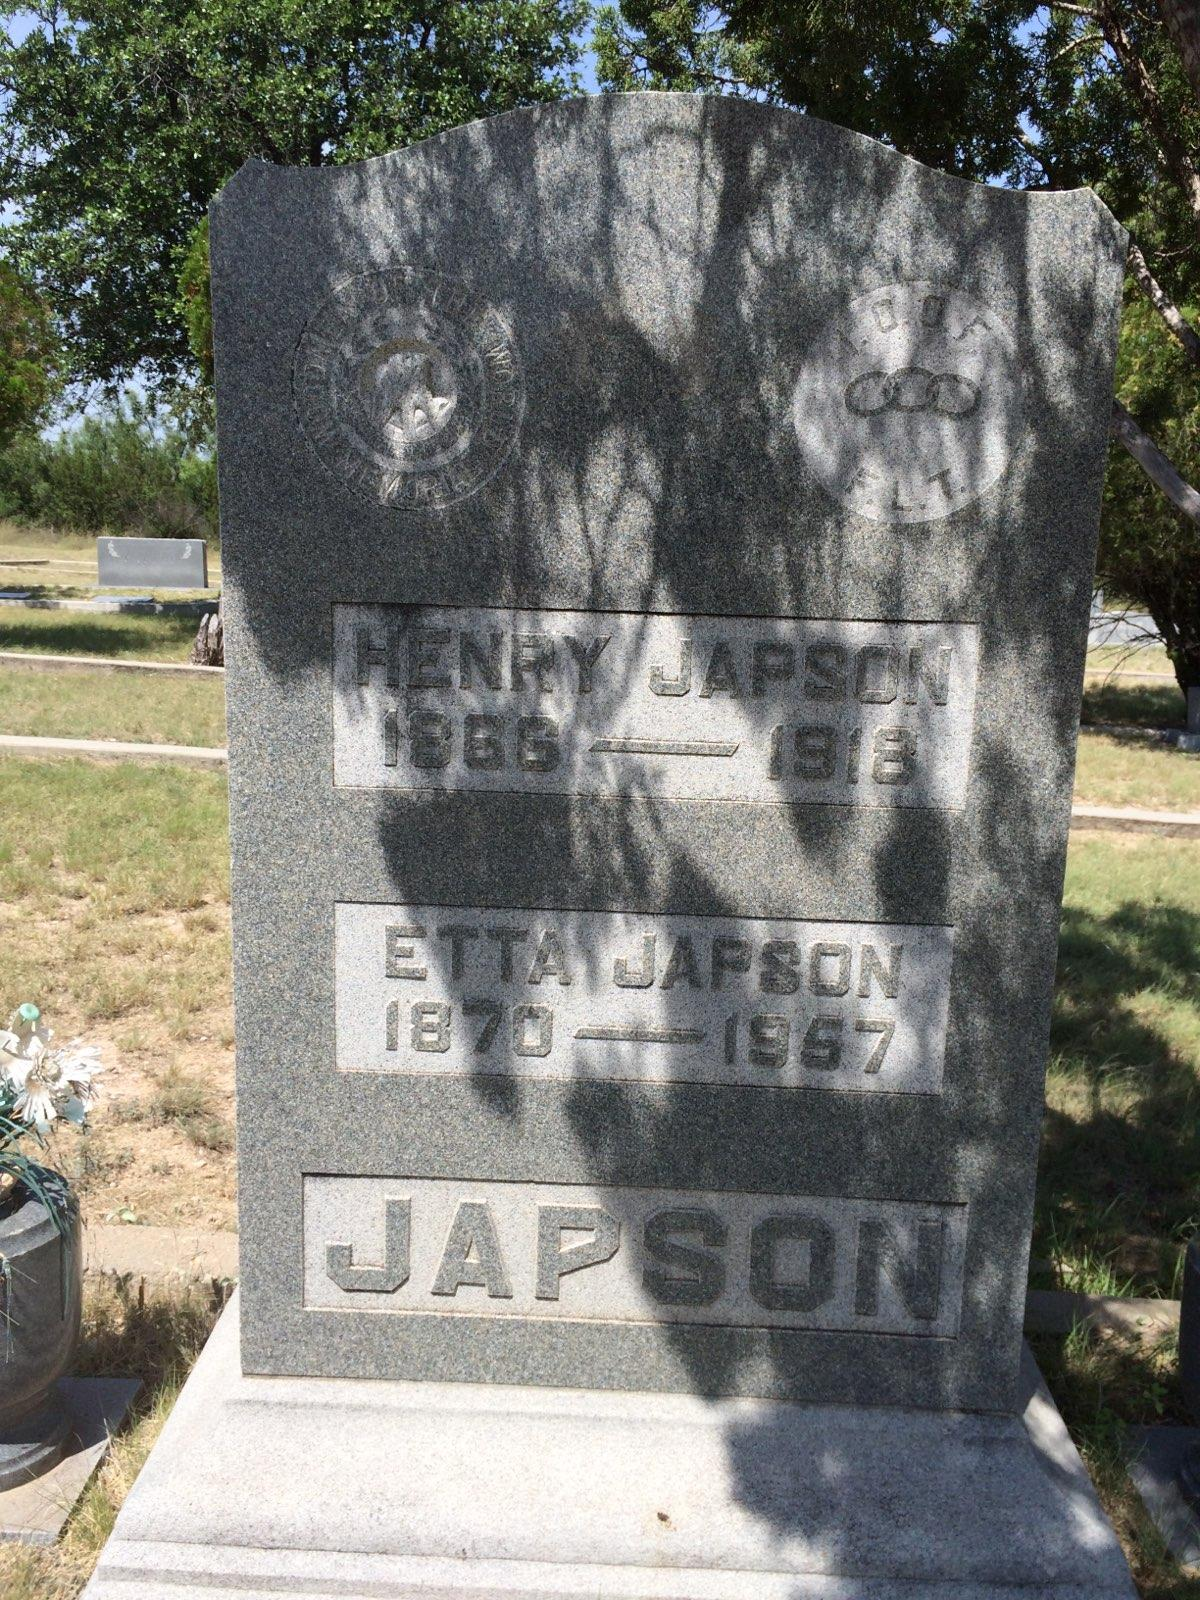upright: (81, 89, 1137, 1600)
